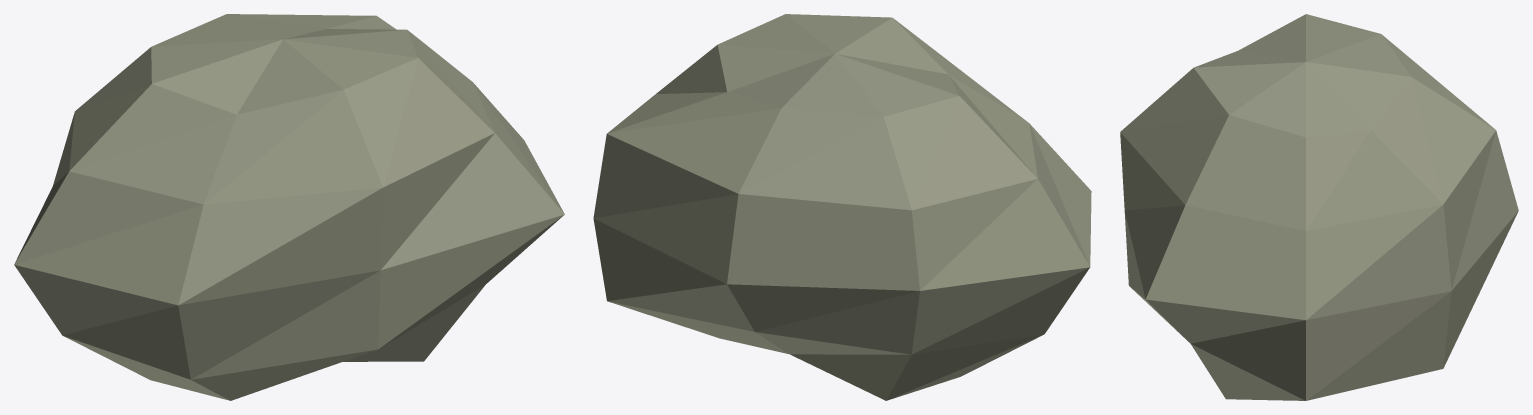
File: rock_field_lod0.obj
3 renders of one model, left to right at view 1: azimuth 30°, elevation 25°; view 2: azimuth 150°, elevation 25°; view 3: azimuth 270°, elevation 25°, orthographic. The views are drawn at different scales.
Parts seen in each view (by area): view 1: rock_field_lod0; view 2: rock_field_lod0; view 3: rock_field_lod0.
Boxes of the visible parts, x1=… form: rock_field_lod0: x1=14, y1=14, x2=564, y2=400; rock_field_lod0: x1=593, y1=14, x2=1091, y2=400; rock_field_lod0: x1=1120, y1=14, x2=1518, y2=400.
Size of the model in its own units: 1.14 by 0.68 by 0.826.
Materials: 1 (1 with a texture image).
